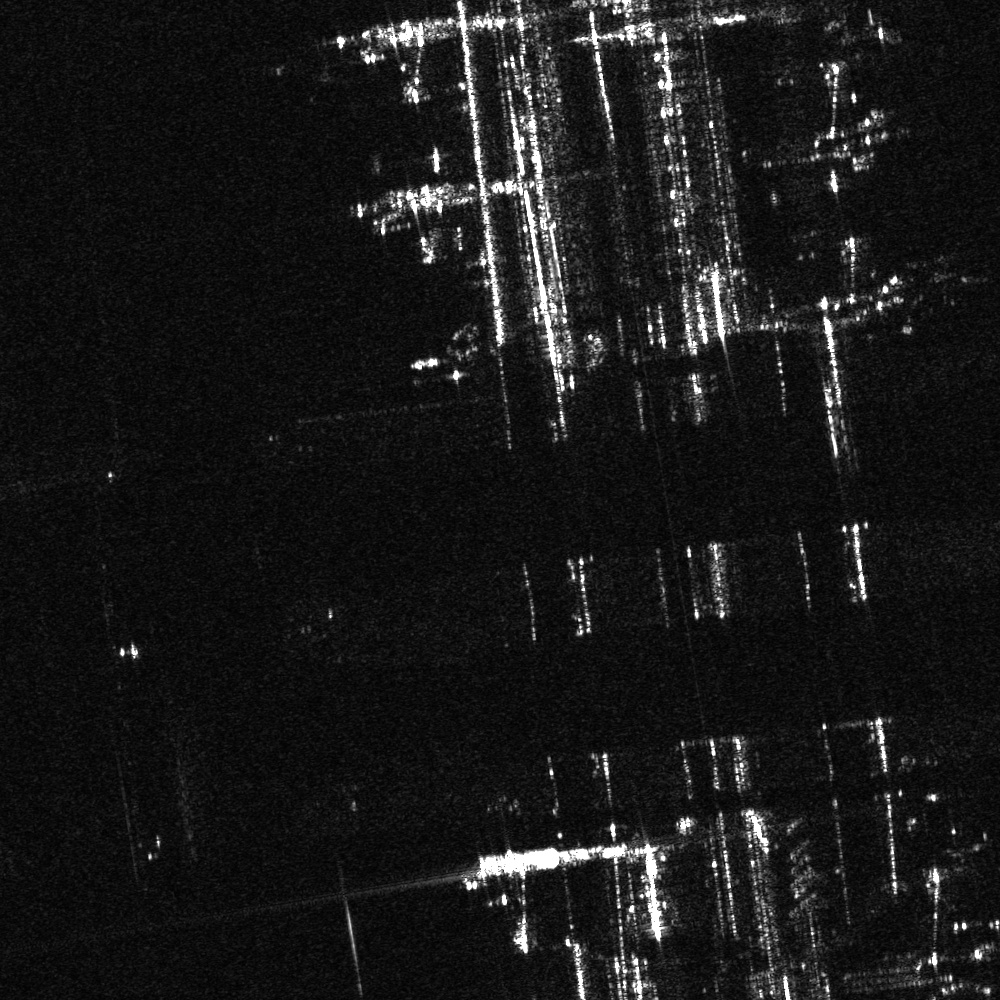Boeing737: (902, 250, 967, 308)
